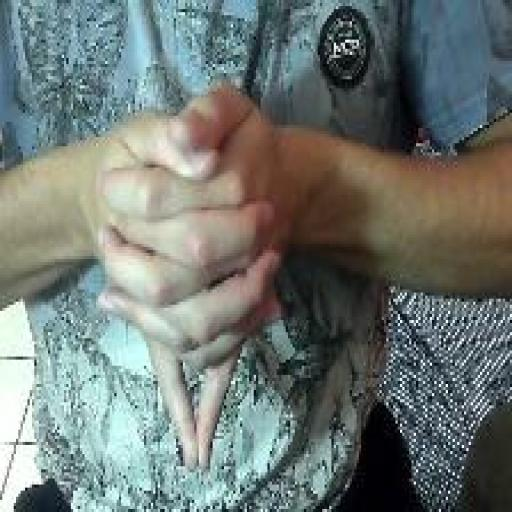Tatsu -dragon-: (90, 73, 292, 482)
